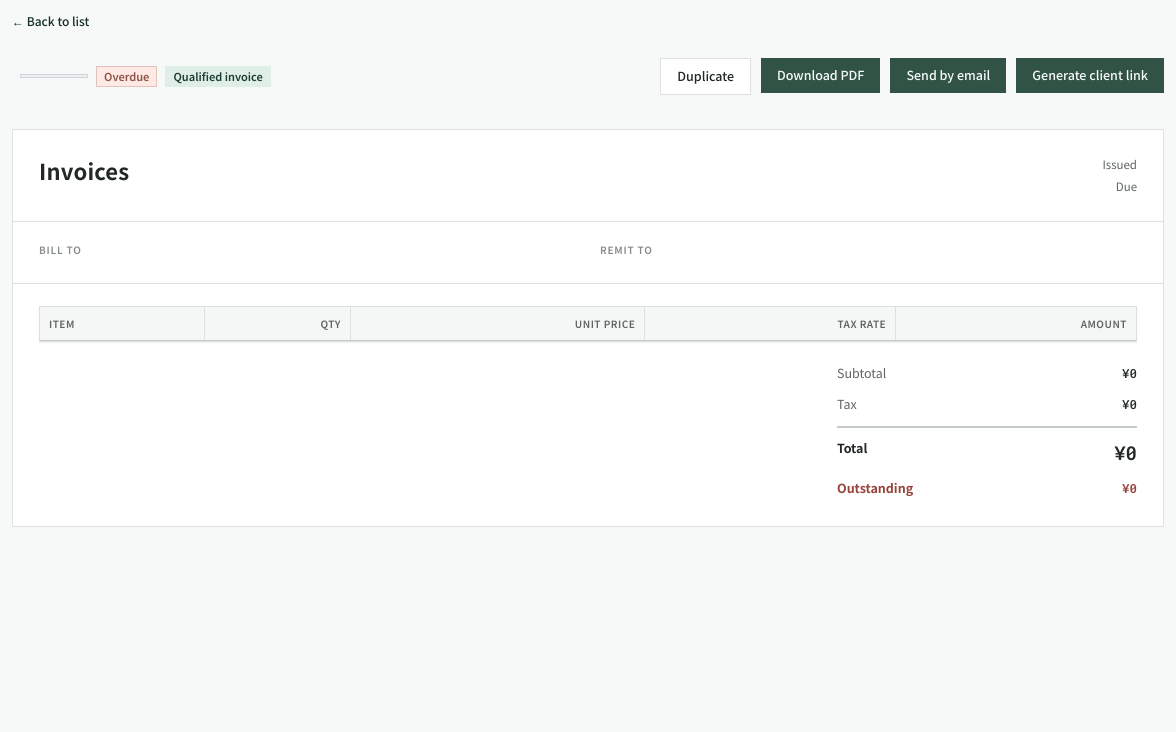
Test: ViewInvoice — demo email preview (#626) › shows the success toast (not the modal) on a 204 real send
Click the button "Send by email" at [948, 75], box [890,58,1006,93]
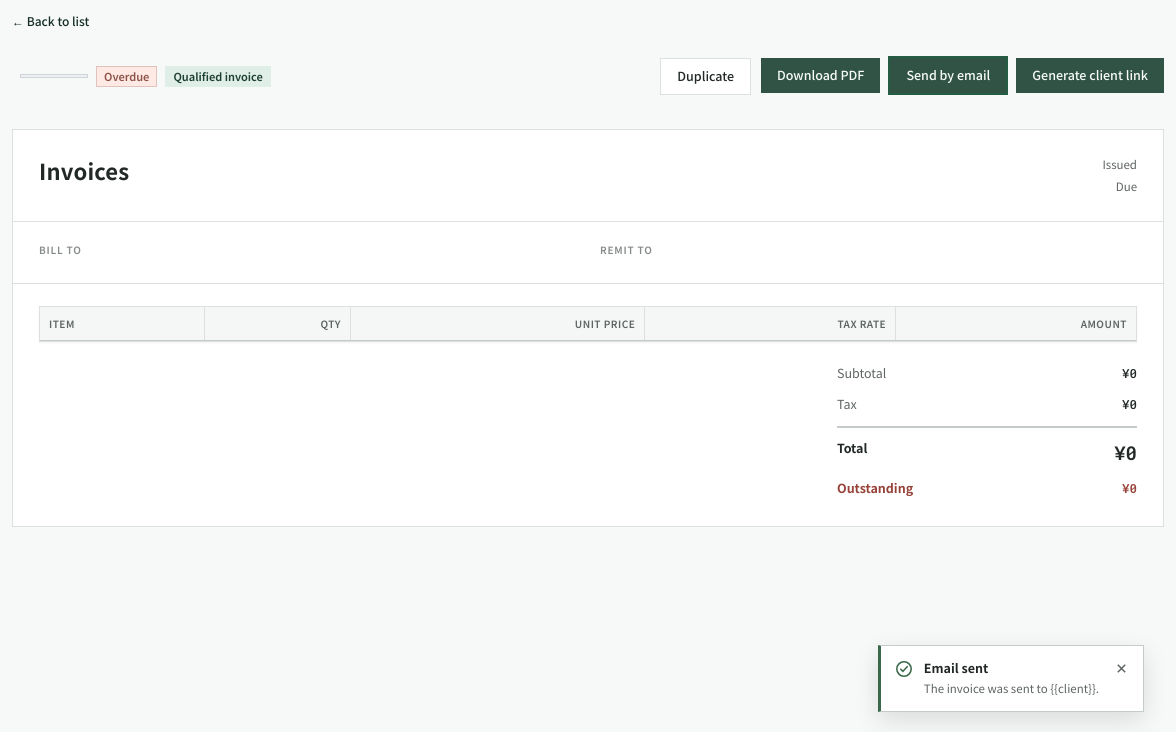
Expected: the text "Email sent" is shown, [924,658,988,677]
